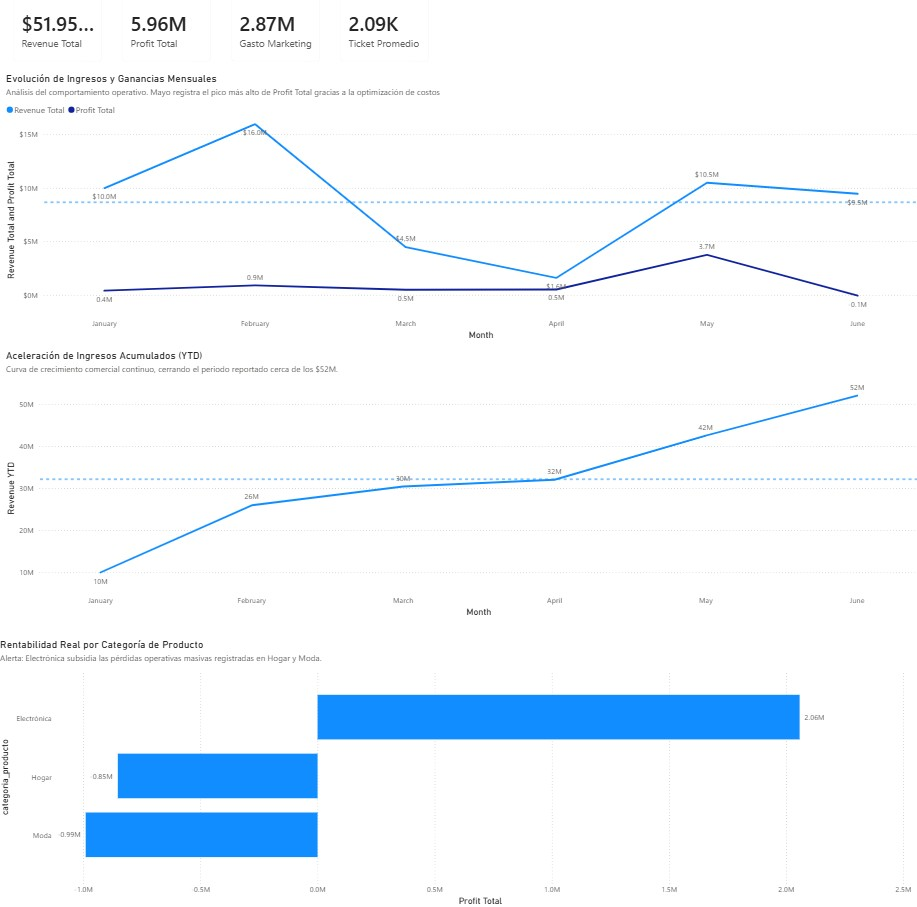

The page's visual inventory and layout, read from the dashboard file:
{"tool":"powerbi","page":{"name":"Overview","canvas":[1500,1500],"ordinal":0},"visuals":[{"type":"cardVisual","fields":{"Data":["_Medidas.Revenue Total"]},"box":[9.7,0,177,141],"z":0},{"type":"cardVisual","fields":{"Data":["_Medidas.Profit Total"]},"box":[186.7,0,177,141],"z":1000},{"type":"cardVisual","fields":{"Data":["_Medidas.Ticket Promedio"]},"box":[540.8,0,177,141],"z":2000},{"type":"cardVisual","fields":{"Data":["_Medidas.Gasto Marketing"]},"box":[363.8,0,177,141],"z":3000},{"type":"lineChart","title":"Evolución de Ingresos y Ganancias Mensuales","fields":{"Y":["_Medidas.Revenue Total","_Medidas.Profit Total"],"Category":["Dim_Fecha.Date.Variation.Date Hierarchy.Month"]},"box":[9.7,141.2,1490.3,439.9],"z":4000},{"type":"barChart","title":"Rentabilidad Real por Categoría de Producto","fields":{"Category":["catalog_clean.categoria_producto"],"Y":["_Medidas.Profit Total"]},"box":[0,1060.1,1490.3,439.9],"z":5000},{"type":"lineChart","title":"Aceleración de Ingresos Acumulados (YTD)","fields":{"Category":["Dim_Fecha.Date.Variation.Date Hierarchy.Month"],"Y":["_Medidas.Revenue YTD"]},"box":[10,591,1490,440],"z":6000}]}

Visuals, with their boxes in screenshot pixels (x1, y1, x2, y2), scaled from the page's 1500x1500 canvas onto the 917x907 screenshot:
cardVisual - _Medidas.Revenue Total: 6, 0, 114, 85
cardVisual - _Medidas.Profit Total: 114, 0, 222, 85
cardVisual - _Medidas.Ticket Promedio: 331, 0, 439, 85
cardVisual - _Medidas.Gasto Marketing: 222, 0, 331, 85
"Evolución de Ingresos y Ganancias Mensuales" lineChart: 6, 85, 916, 351
"Rentabilidad Real por Categoría de Producto" barChart: 0, 641, 911, 906
"Aceleración de Ingresos Acumulados (YTD)" lineChart: 6, 357, 916, 623
